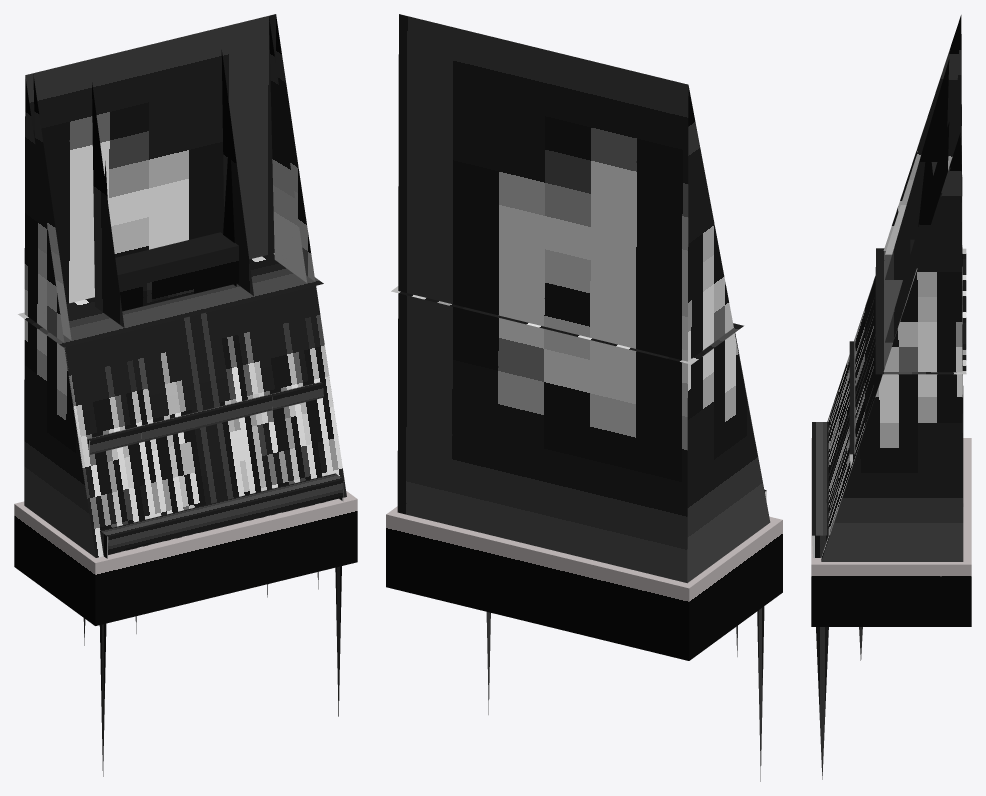
3 renders of one model, left to right at view 1: azimuth 30°, elevation 25°; view 2: azimuth 150°, elevation 25°; view 3: azimuth 270°, elevation 25°, orthographic. The views are drawn at different scales.
Parts seen in each view (by area): view 1: 3933kg3_gs25; view 2: 3933kg3_gs25; view 3: 3933kg3_gs25.
Part boxes in pixels (box(x1,y1,x2,y2)): 3933kg3_gs25: box(14, 14, 357, 776); 3933kg3_gs25: box(386, 14, 782, 781); 3933kg3_gs25: box(811, 15, 971, 779).
Bounding box in the file's own units: 1.87 × 4.47 × 1.
Materials: 3 (3 with a texture image).
